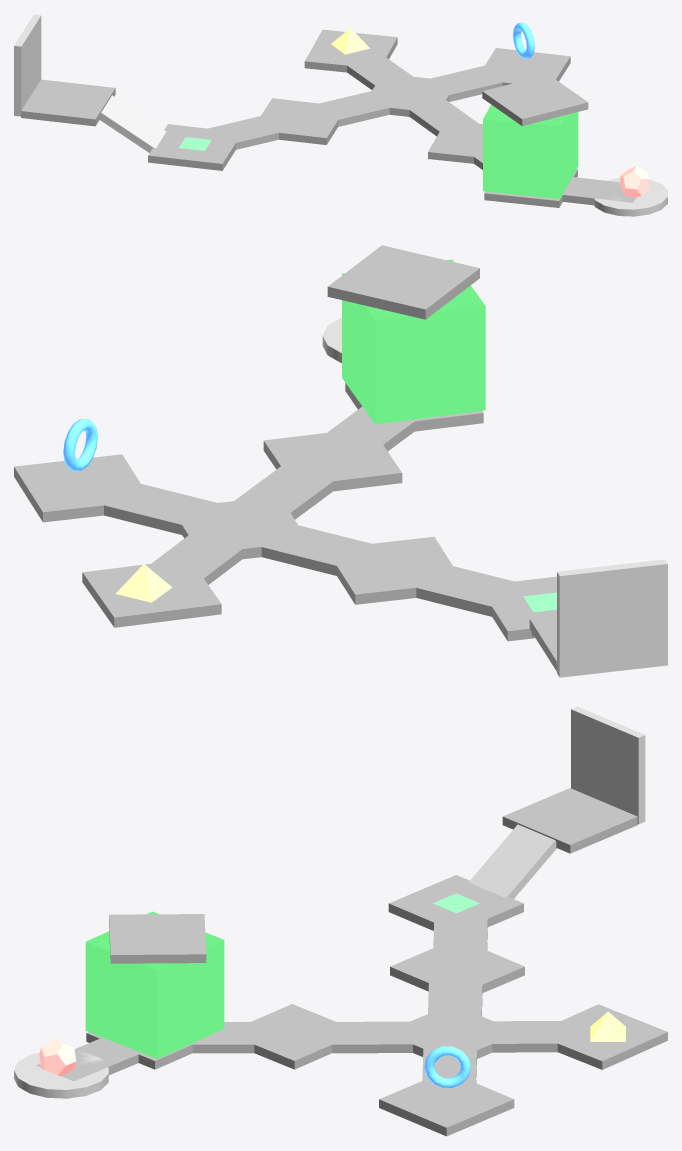
3 renders of one model, top to bottom at view 1: azimuth 30°, elevation 25°; view 2: azimuth 150°, elevation 25°; view 3: azimuth 270°, elevation 25°, orthographic. The views are drawn at different scales.
Visible parts, largest first — view 1: Detector, Plate (×2), Plate_5 (×2), HomePlate, Box (×2), Plate_1, Plate_4, Plate_2, FirstSlantt, Runway, Runway_2, Runway_1 (+8 smaller); view 2: Detector, Box, Plate_5 (×2), Plate (×2), Plate_2, Plate_3, Plate_4, Plate_1, Runway_3, Runway_2, Runway_4, Runway (+6 smaller); view 3: Detector, Plate (×2), Box, Plate_5 (×2), Plate_2, HomePlate, Plate_3, Plate_4, FirstSlantt, Plate_1, Runway_3, Cylinder (+9 smaller).
Part boxes in pixels (x1,y1,x2,y2): Detector: (483,94,578,198); Plate (×2): (21,79,346,144); Plate_5 (×2): (482,74,588,207); HomePlate: (148,124,241,170); Box (×2): (14,14,211,150); Plate_1: (364,73,456,116); Plate_4: (304,29,397,72); Plate_2: (476,48,570,85); FirstSlantt: (100,95,166,152); Runway: (203,114,290,149); Runway_2: (427,63,514,101); Runway_1: (314,89,400,126); Detector: (342,259,485,424); Box: (557,559,667,677); Plate_5 (×2): (327,245,483,431); Plate (×2): (326,536,556,671); Plate_2: (14,454,150,522); Plate_3: (263,427,402,491); Plate_4: (82,563,221,627); Plate_1: (171,496,308,559); Runway_3: (233,461,341,519); Runway_2: (104,480,219,534); Runway_4: (147,529,242,584); Runway: (415,566,531,616); Detector: (85,911,224,1058); Plate (×2): (390,788,637,992); Box: (571,706,645,824); Plate_5 (×2): (86,914,220,1069); Plate_2: (379,1070,514,1136); HomePlate: (388,875,523,930); Plate_3: (226,1004,351,1069); Plate_4: (547,1004,667,1069); FirstSlantt: (468,824,556,898); Plate_1: (385,1014,519,1060); Runway_3: (319,1021,412,1053); Cylinder: (14,1052,108,1098).
Size of the model in its own units: 75.33 by 16.16 by 68.43.
